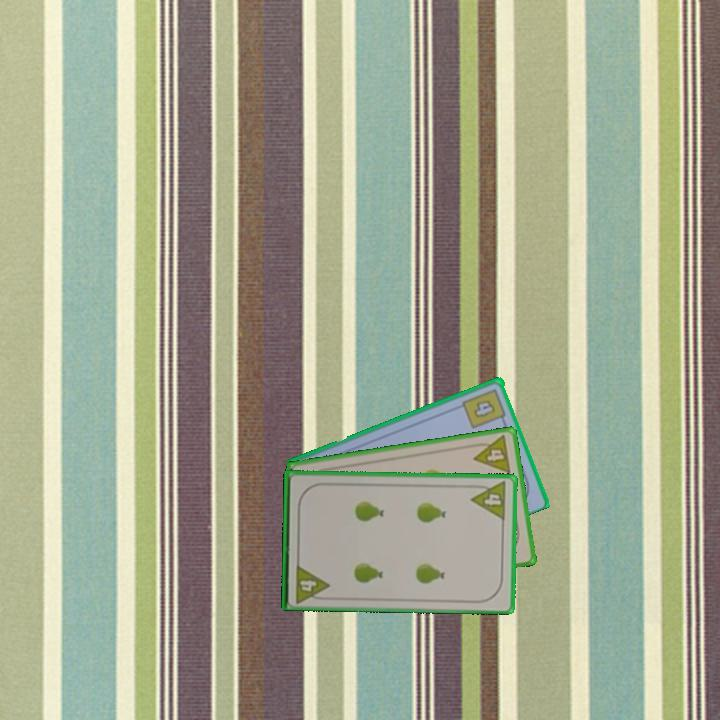4b: (459, 385, 509, 431)
4p: (468, 432, 513, 476), (468, 478, 509, 523), (292, 560, 331, 605)
